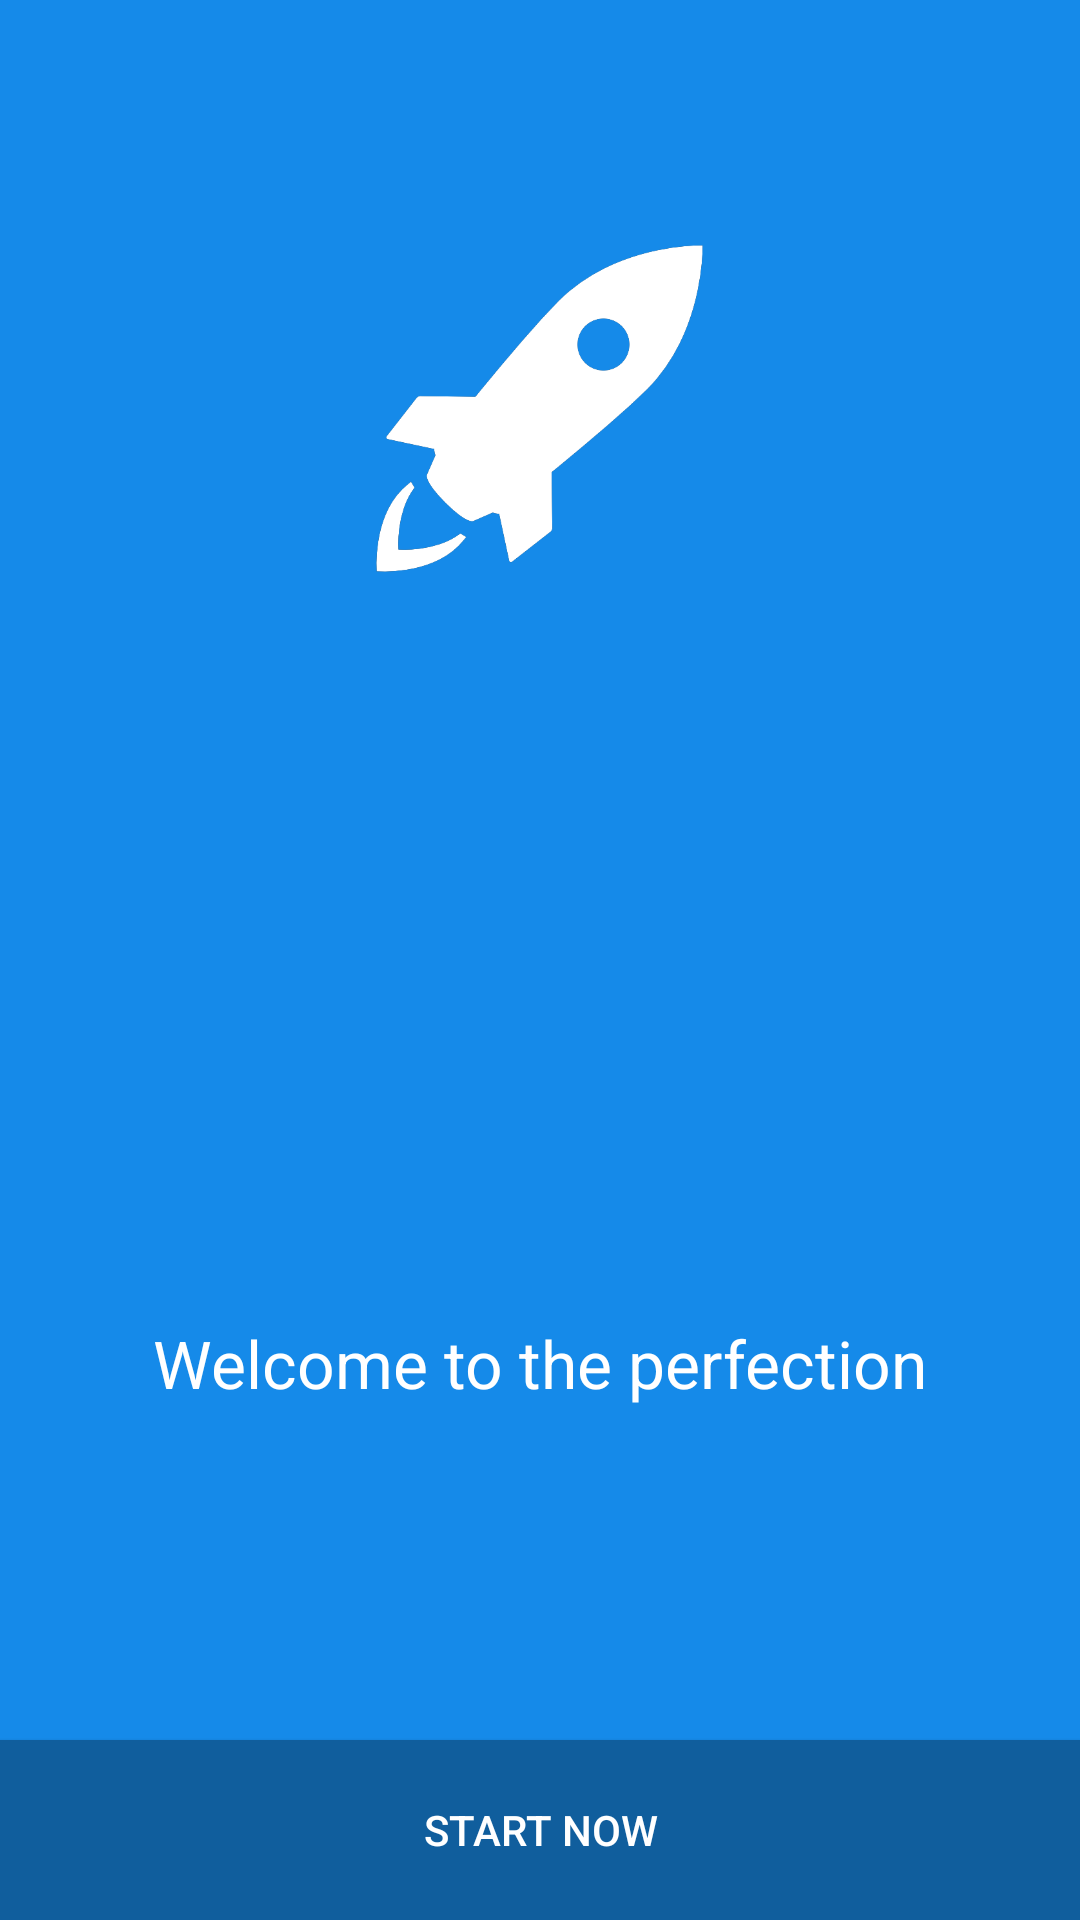

Icon click points for this 1080×1920 phone screenshot, format [x,y]:
rocket: [539,408]
